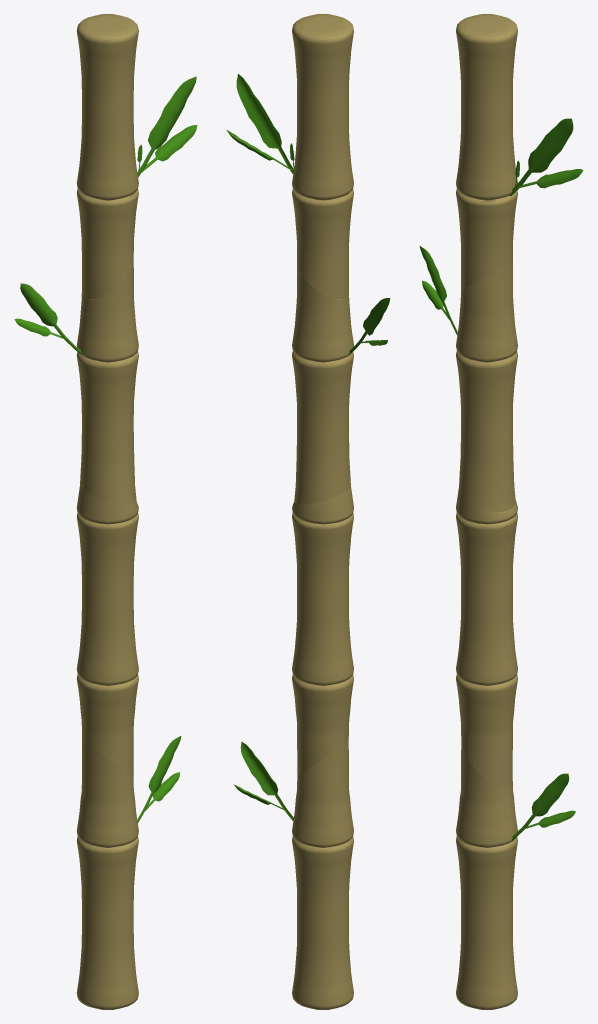
File: Mesh_Bambu.fbx
3 views of the same model, side by side, from view 1: azimuth 30°, elevation 25°; view 2: azimuth 150°, elevation 25°; view 3: azimuth 330°, elevation 25° (orthographic).
Visible parts, largest first — view 1: Up_Bambu, Down_Bambu, Middle_Bambu, Middle_Up_Bambu; view 2: Up_Bambu, Down_Bambu, Middle_Bambu, Middle_Up_Bambu; view 3: Up_Bambu, Middle_Bambu, Down_Bambu, Middle_Up_Bambu.
Boxes of the visible parts, x1,y1,x2,y2 form: Up_Bambu: [76, 14, 197, 299]; Down_Bambu: [76, 736, 181, 1009]; Middle_Bambu: [76, 486, 138, 776]; Middle_Up_Bambu: [14, 261, 138, 504]; Up_Bambu: [226, 14, 353, 299]; Down_Bambu: [234, 740, 353, 1009]; Middle_Bambu: [292, 486, 353, 776]; Middle_Up_Bambu: [292, 260, 390, 504]; Up_Bambu: [456, 14, 583, 289]; Middle_Bambu: [456, 487, 517, 786]; Down_Bambu: [456, 742, 575, 1009]; Middle_Up_Bambu: [419, 246, 517, 511].
Size of the model in its own units: 51.03 by 276 by 15.95.
